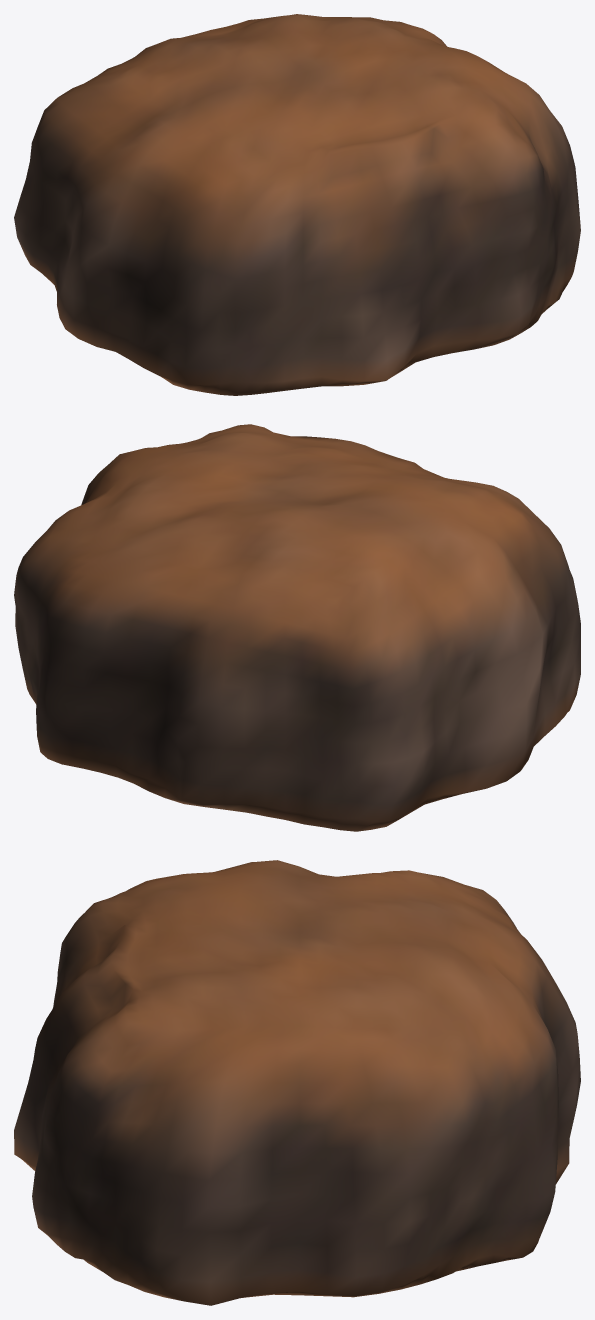
Rendered from moe.glb.
The picture shows the model from 3 angles, top to bottom: view 1: azimuth 30°, elevation 25°; view 2: azimuth 150°, elevation 25°; view 3: azimuth 270°, elevation 25°; orthographic projection. The views are drawn at different scales.
Visible parts, largest first — view 1: cover-moe; view 2: cover-moe; view 3: cover-moe.
Part boxes in pixels (x1,y1,x2,y2): cover-moe: (14, 14, 580, 395); cover-moe: (14, 424, 580, 831); cover-moe: (14, 860, 580, 1305).
Bounding box in the file's own units: 0.2664 × 0.12 × 0.2435.
